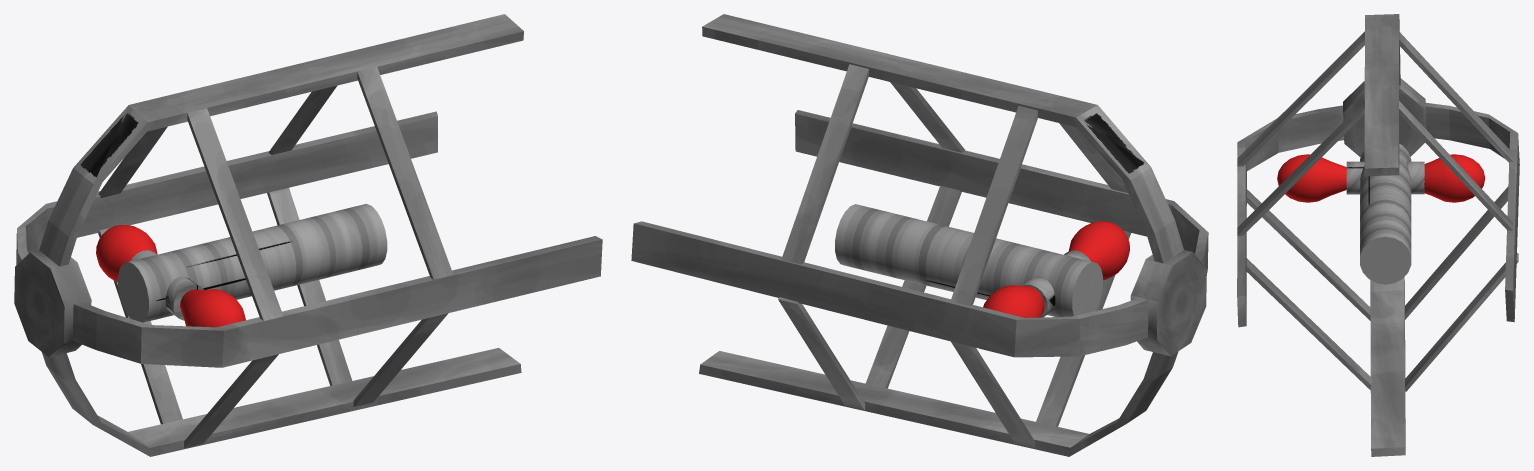
Rendered from AlarmLightsObject.FBX.
3 renders of one model, left to right at view 1: azimuth 30°, elevation 25°; view 2: azimuth 150°, elevation 25°; view 3: azimuth 270°, elevation 25°, orthographic. The views are drawn at different scales.
Parts seen in each view (by area): view 1: Housing, Light; view 2: Housing, Light; view 3: Housing, Light.
Boxes of the visible parts, box(x1,y1,x2,y2) form: Housing: box(14, 14, 602, 456); Light: box(96, 203, 387, 327); Housing: box(631, 14, 1208, 456); Light: box(835, 204, 1129, 317); Housing: box(1237, 14, 1519, 456); Light: box(1277, 144, 1485, 284).
Size of the model in its own units: 88.16 by 54.46 by 61.61.
Materials: 2 (2 with a texture image).
